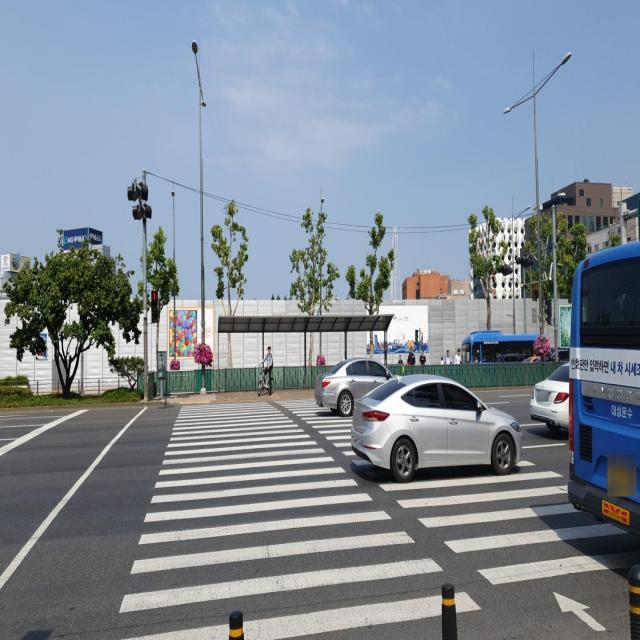빨간불: (150, 289, 159, 326)
횡단보도: (119, 406, 640, 640)
